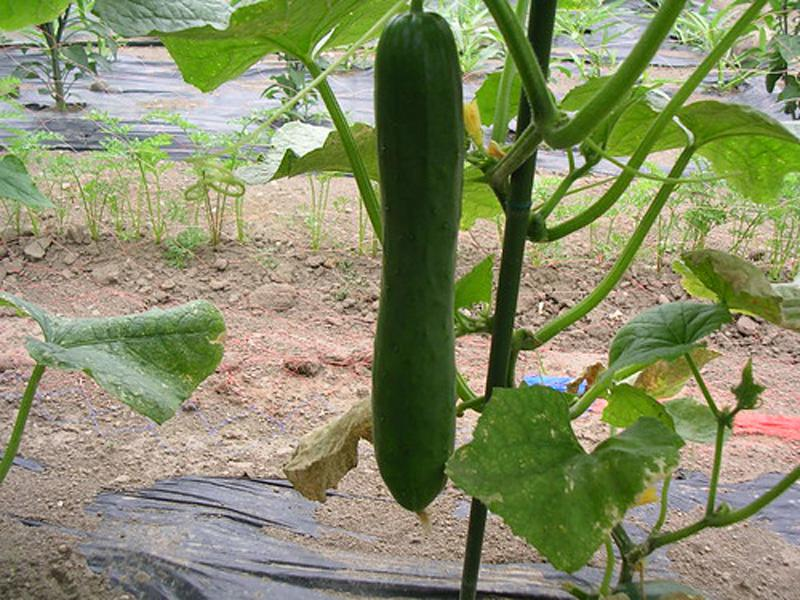Cucumber: (372, 11, 465, 525)
